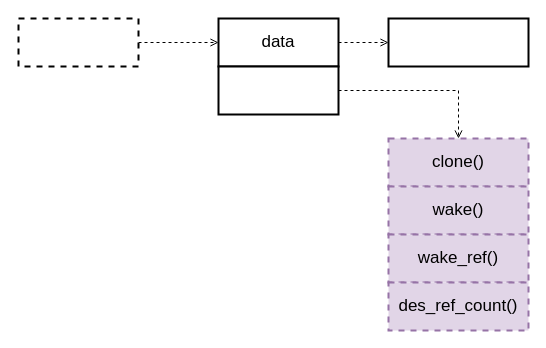
Image size: 546x348. Some labels were removed from this diagram. Here are the shapes that lost their labels. From the top down, the centre of each, then its label:
(78,42): Waker
(458,42): MyWaker
(278,90): vtable
